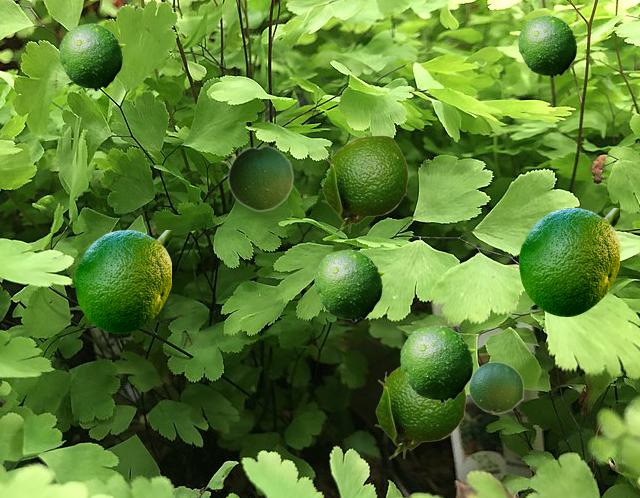dalandan: (519, 208, 618, 315), (75, 230, 170, 332), (374, 366, 465, 458), (321, 135, 407, 232), (400, 325, 475, 402), (314, 249, 384, 321), (227, 144, 293, 211), (59, 23, 124, 90), (518, 15, 578, 77), (468, 361, 523, 413)
